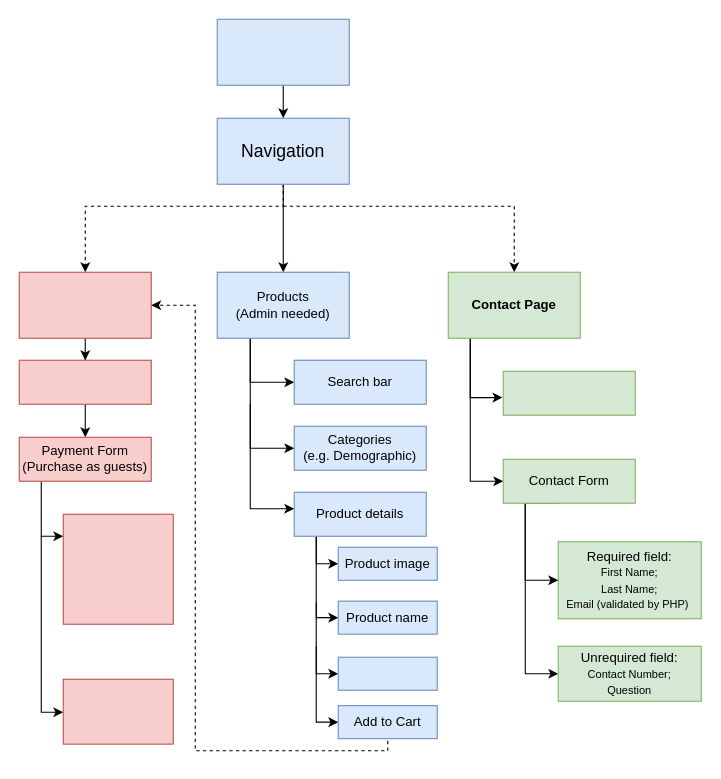
This 721x779 diagram has some shape labels left out. Each missing label, with the box of its shape:
Cart: Add; delete; review: (18, 359, 151, 404)
Credit Card: Card Number; Password; Validation Date: (62, 678, 173, 744)
Payment Page: (18, 271, 151, 338)
Personal Information: Name; Contact Number; Email; Address;: (62, 513, 173, 624)
Product Price: (337, 656, 437, 690)
Sports Warehouse Home Page: (216, 18, 349, 85)
Text Information about website: (502, 370, 635, 415)
